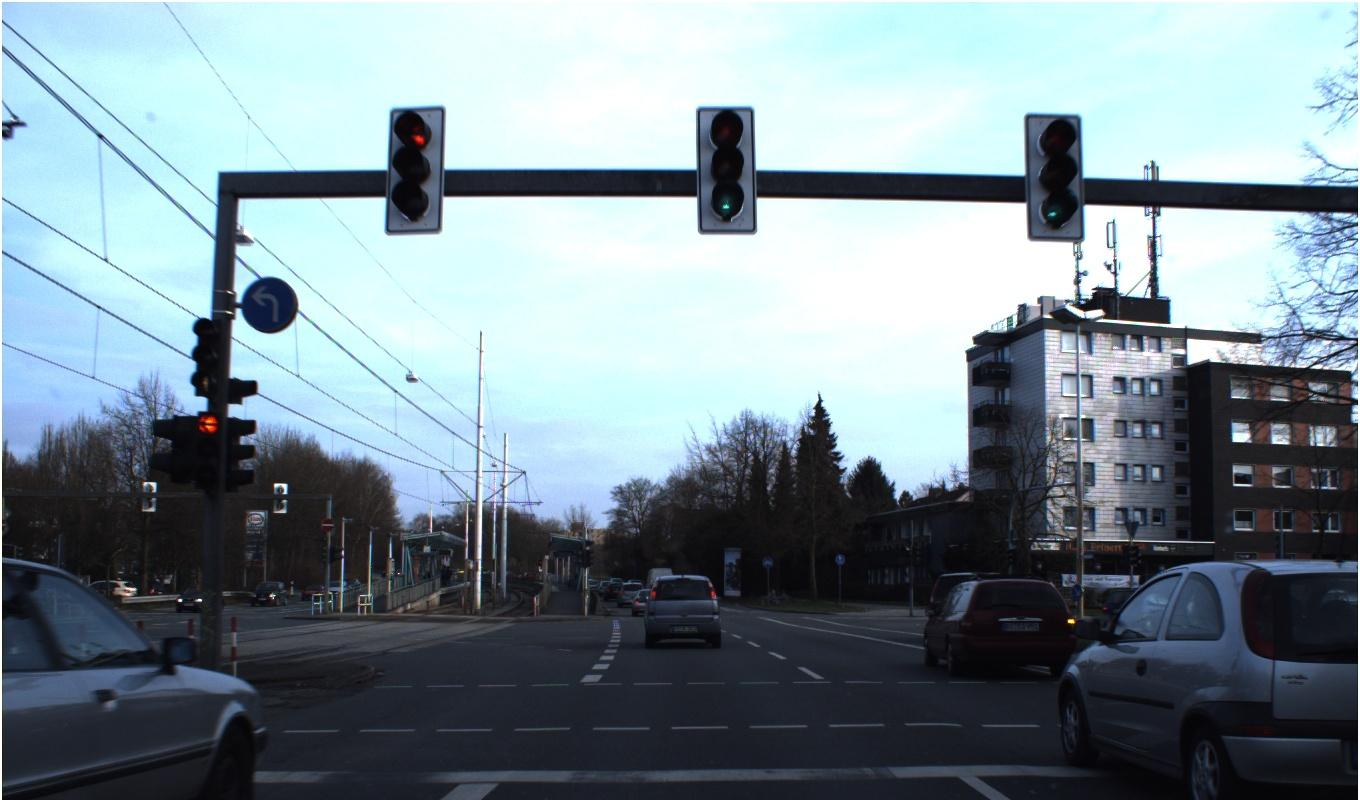go left: (91, 108, 389, 442)
